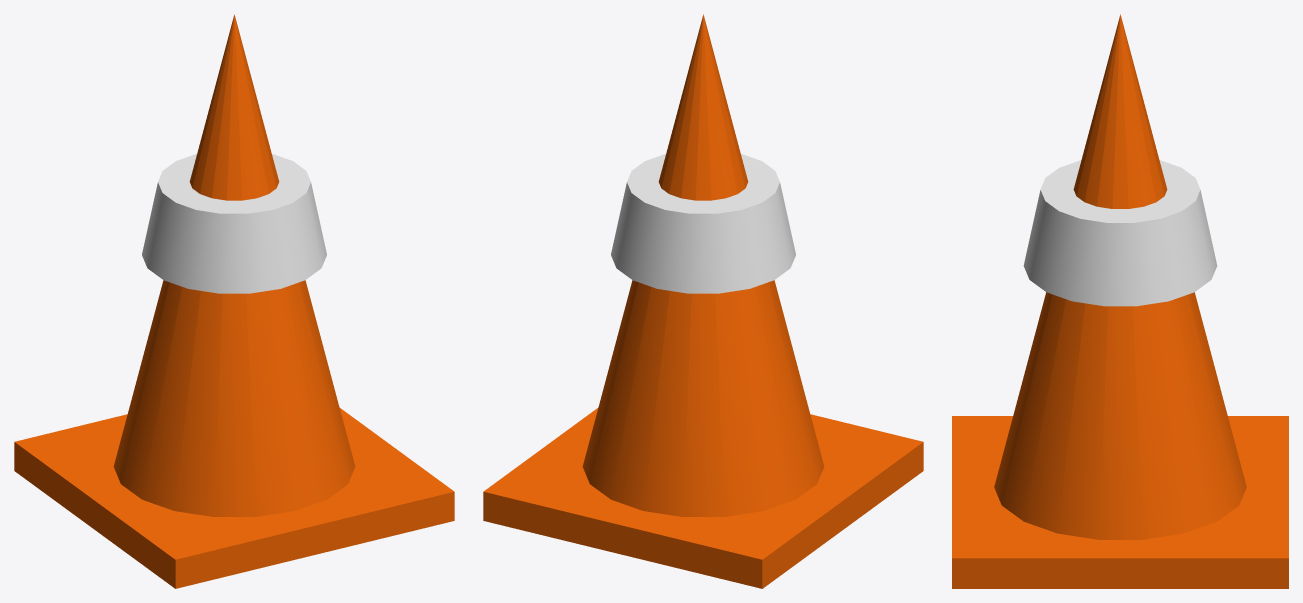
3 views of the same model, side by side, from view 1: azimuth 30°, elevation 25°; view 2: azimuth 150°, elevation 25°; view 3: azimuth 270°, elevation 25° (orthographic). The views are drawn at different scales.
Visible parts, largest first — view 1: Cone, Base, Stripe; view 2: Cone, Base, Stripe; view 3: Cone, Base, Stripe.
Boxes of the visible parts, x1=… form: Cone: x1=113, y1=14, x2=355, y2=516; Base: x1=14, y1=408, x2=454, y2=588; Stripe: x1=142, y1=154, x2=326, y2=293; Cone: x1=582, y1=14, x2=824, y2=516; Base: x1=483, y1=408, x2=923, y2=588; Stripe: x1=611, y1=154, x2=795, y2=293; Cone: x1=994, y1=14, x2=1246, y2=539; Base: x1=952, y1=416, x2=1288, y2=588; Stripe: x1=1023, y1=160, x2=1217, y2=306.
Size of the model in its own units: 0.4 by 0.66 by 0.4.
